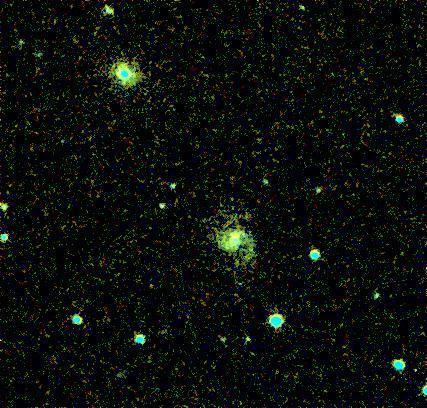star: (400, 355, 427, 385)
